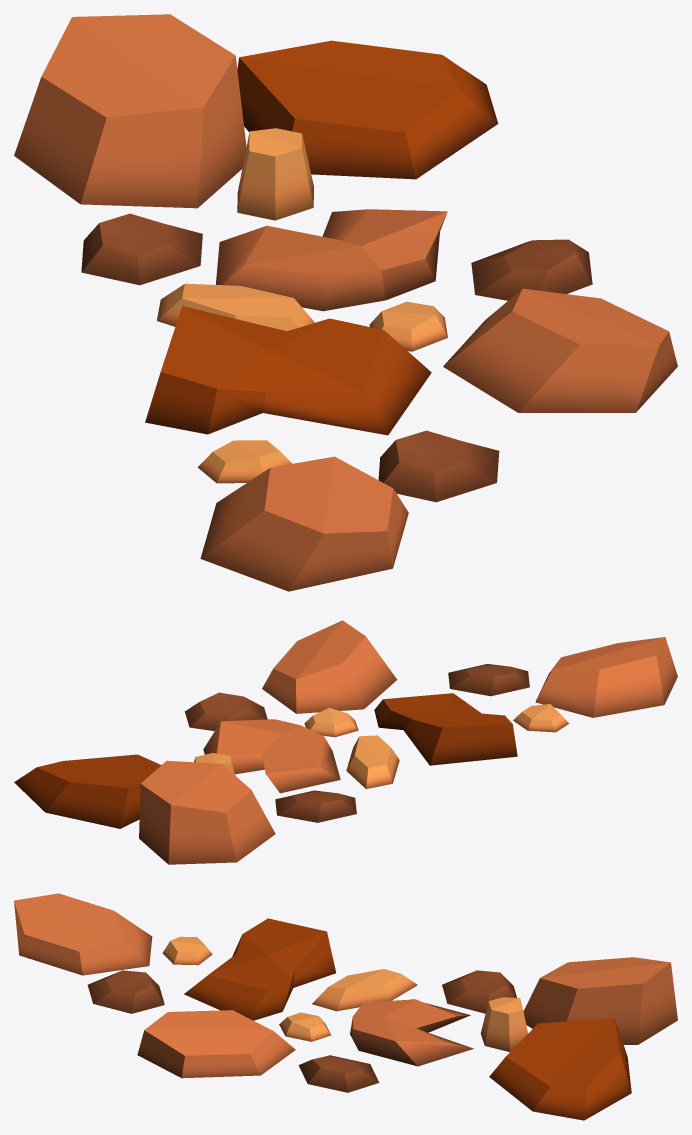
The model's file is CaminhoPedras.fbx.
The picture shows the model from 3 angles, top to bottom: view 1: azimuth 30°, elevation 25°; view 2: azimuth 150°, elevation 25°; view 3: azimuth 270°, elevation 25°; orthographic projection. The views are drawn at different scales.
Parts seen in each view (by area): view 1: Pedras.001; view 2: Pedras.001; view 3: Pedras.001.
Boxes of the visible parts, left/top/right/bottom form: Pedras.001: left=14, top=14, right=677, bottom=591; Pedras.001: left=14, top=620, right=677, bottom=864; Pedras.001: left=14, top=893, right=677, bottom=1120.
Size of the model in its own units: 70.95 by 9.59 by 97.43.
